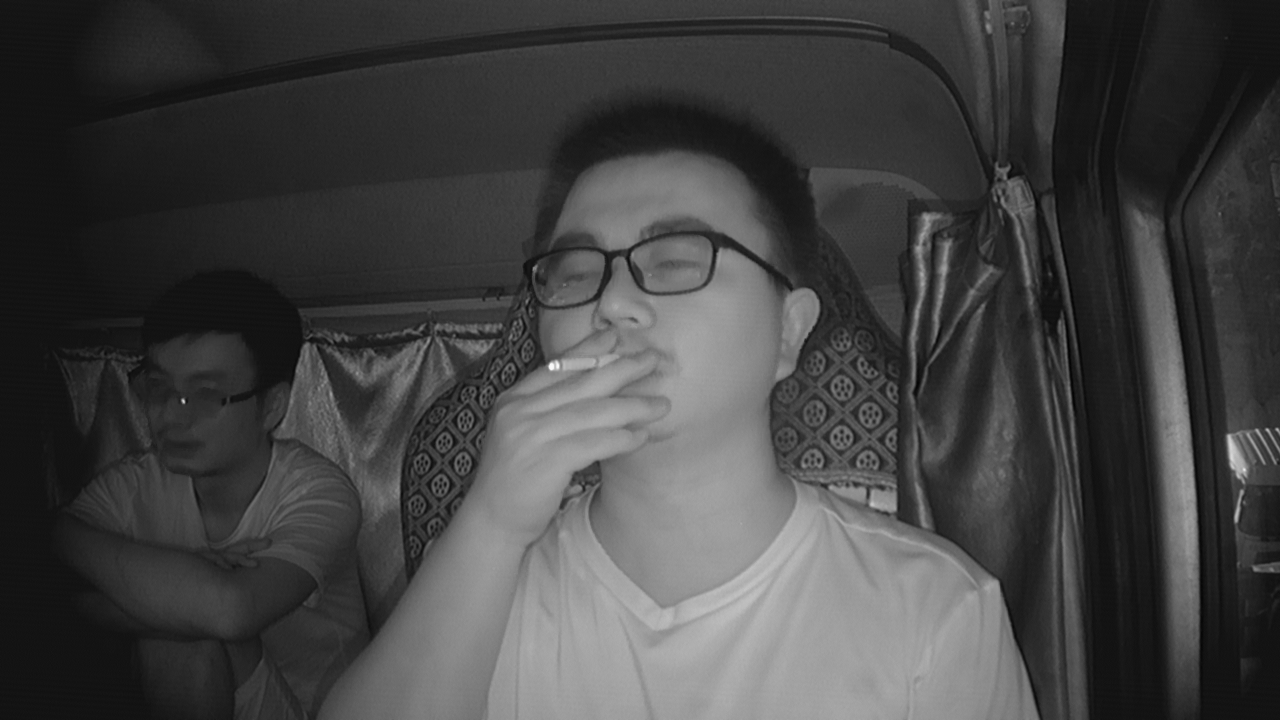hand: (517, 330, 648, 487)
